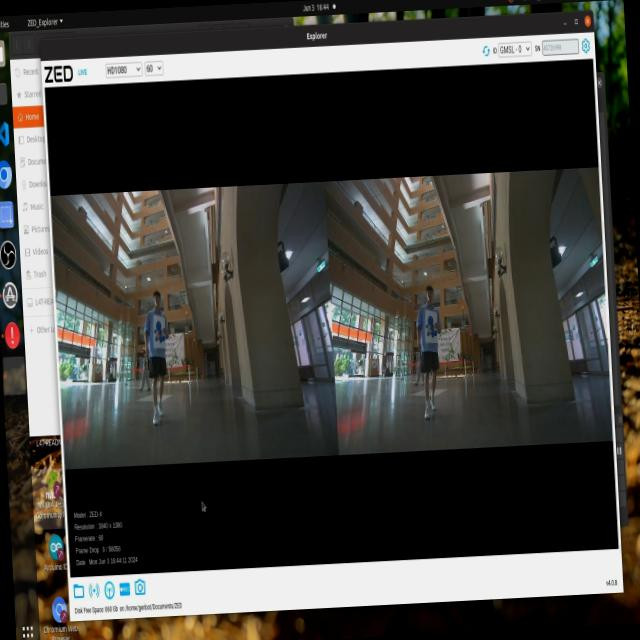blue: (150, 318, 164, 341), (428, 312, 436, 343)
